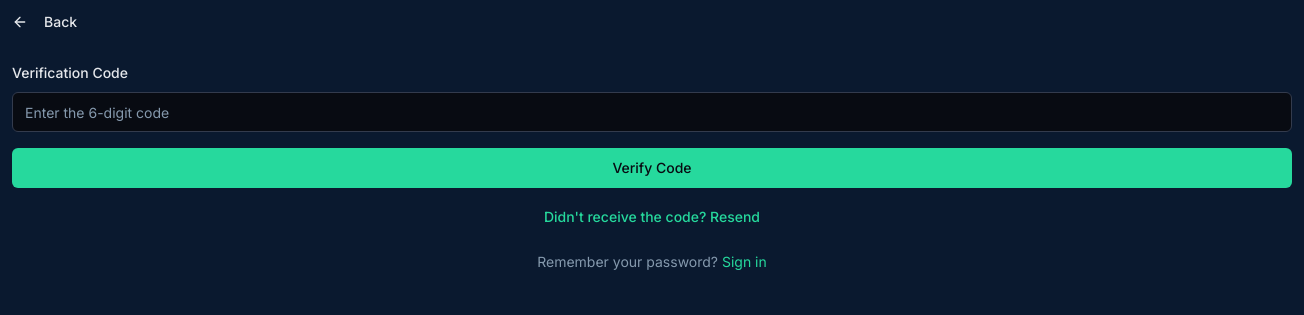
Test: PasswordResetForm › Code Verification Step › should handle invalid code error
Type "000000" into the field with test id "verification-code-input" at {"x": 652, "y": 112}, box [12,92,1292,132]
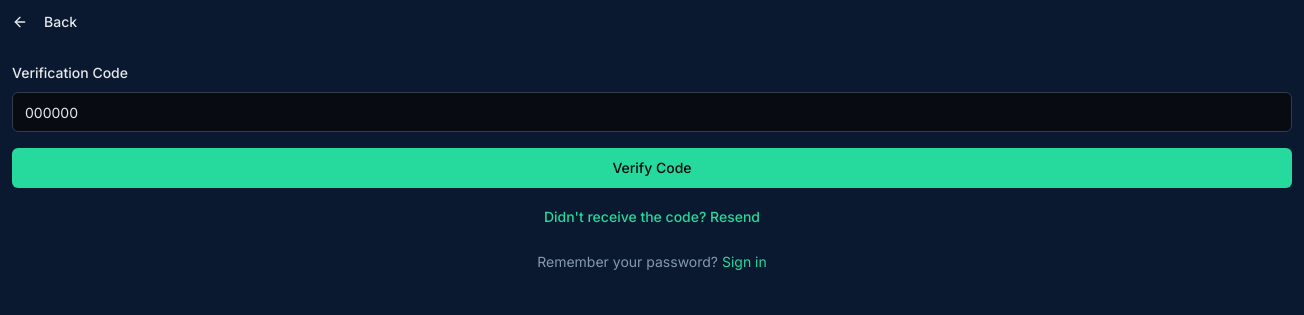
Click the button with test id "verify-code-button" at {"x": 652, "y": 168}, box [12,148,1292,188]
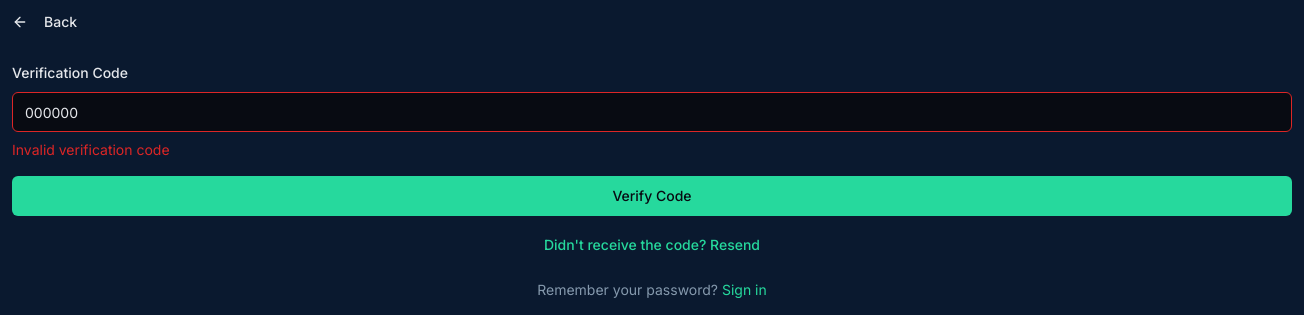
Expected: the text with test id "verification-code-error" reads "Invalid verification code", [12,141,170,158]
